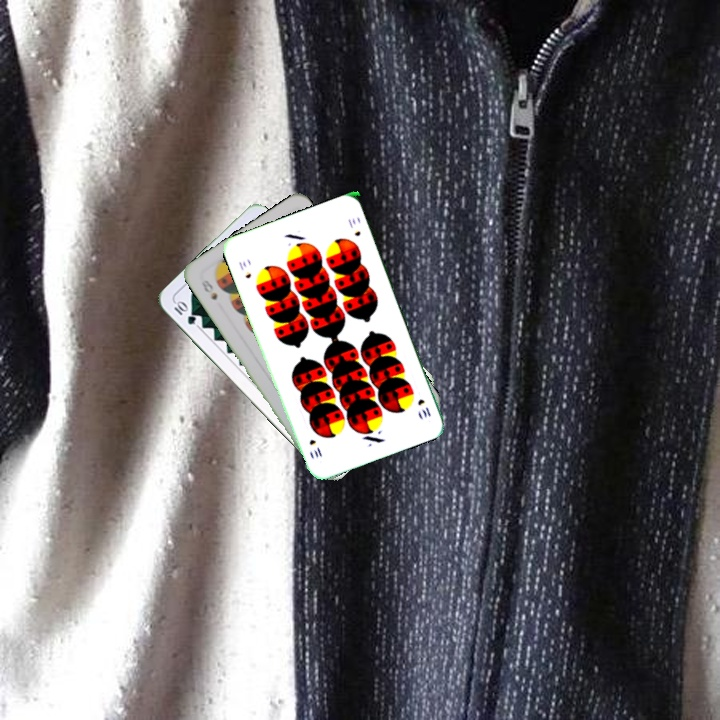G10: (170, 297, 199, 327)
S10: (234, 257, 254, 281), (414, 395, 433, 420)
S8: (197, 276, 220, 303)
